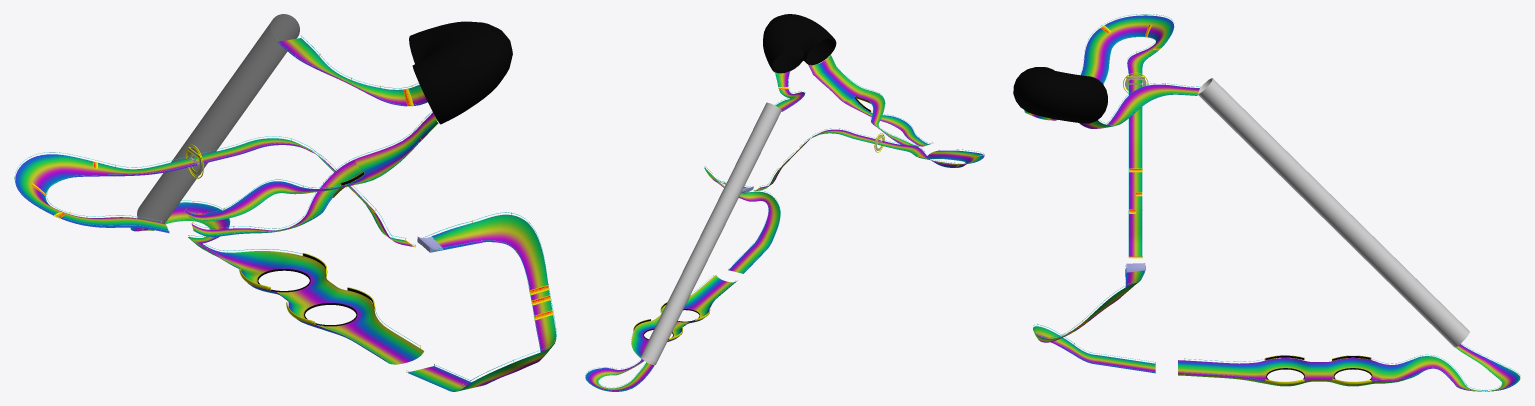
The model's file is Track.fbx.
The picture shows the model from 3 angles, left to right: view 1: azimuth 30°, elevation 25°; view 2: azimuth 150°, elevation 25°; view 3: azimuth 270°, elevation 25°; orthographic projection. The views are drawn at different scales.
Visible parts, largest first — view 1: Track_main, Track5, side_27; view 2: Track_main, Track5, side_27; view 3: Track_main, Track5, side_27.
Part boxes in pixels (box(x1,y1,x2,y2)): Track_main: box(15, 14, 512, 364); Track5: box(407, 214, 556, 391); side_27: box(14, 35, 554, 389); Track_main: box(585, 14, 984, 391); Track5: box(704, 168, 780, 273); side_27: box(585, 54, 984, 390); Track_main: box(1013, 15, 1520, 391); Track5: box(1033, 268, 1155, 373); side_27: box(1024, 14, 1520, 391).
Size of the model in its own units: 25463 by 20810 by 31050.
